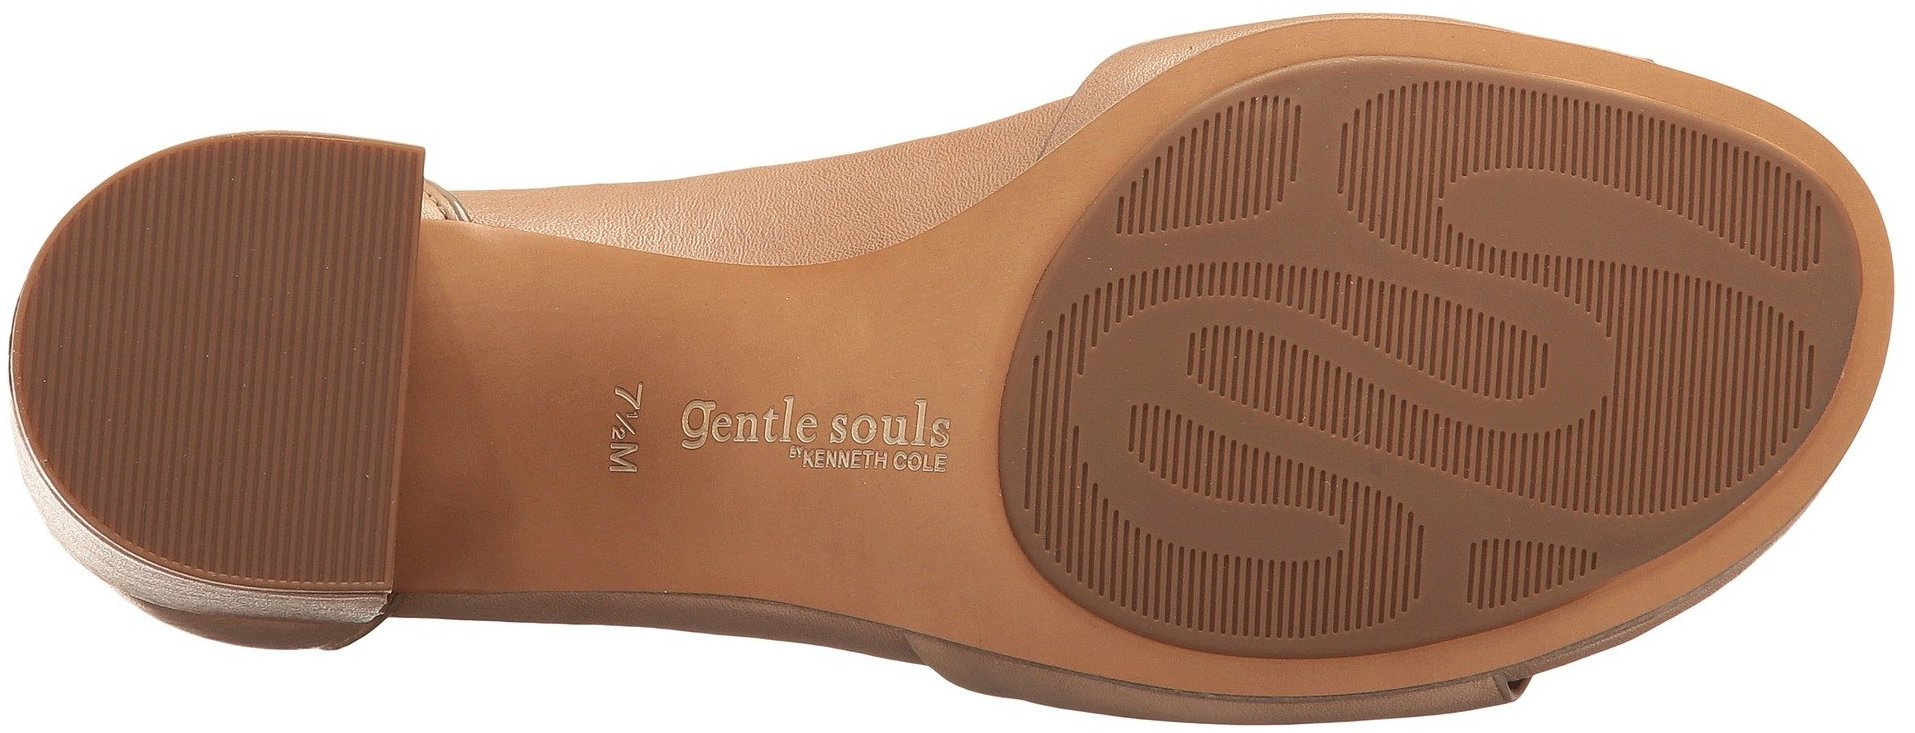line: (1149, 143, 1533, 586)
